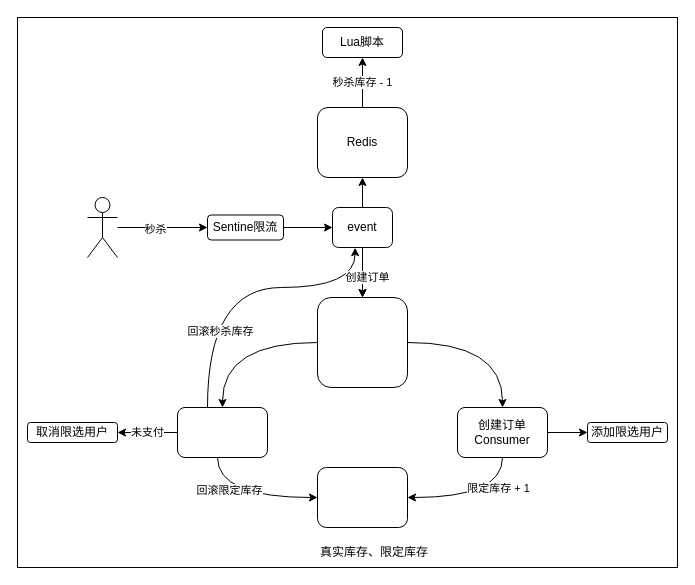
The diagram is 695 pixels wide and 585 high, and some of its shapes have lost their labels. Each missing label, with the centre of its shape:
"DB" goes at (362,497).
"RocketMQ" goes at (362,342).
"支付检查Consumer" goes at (222,432).
